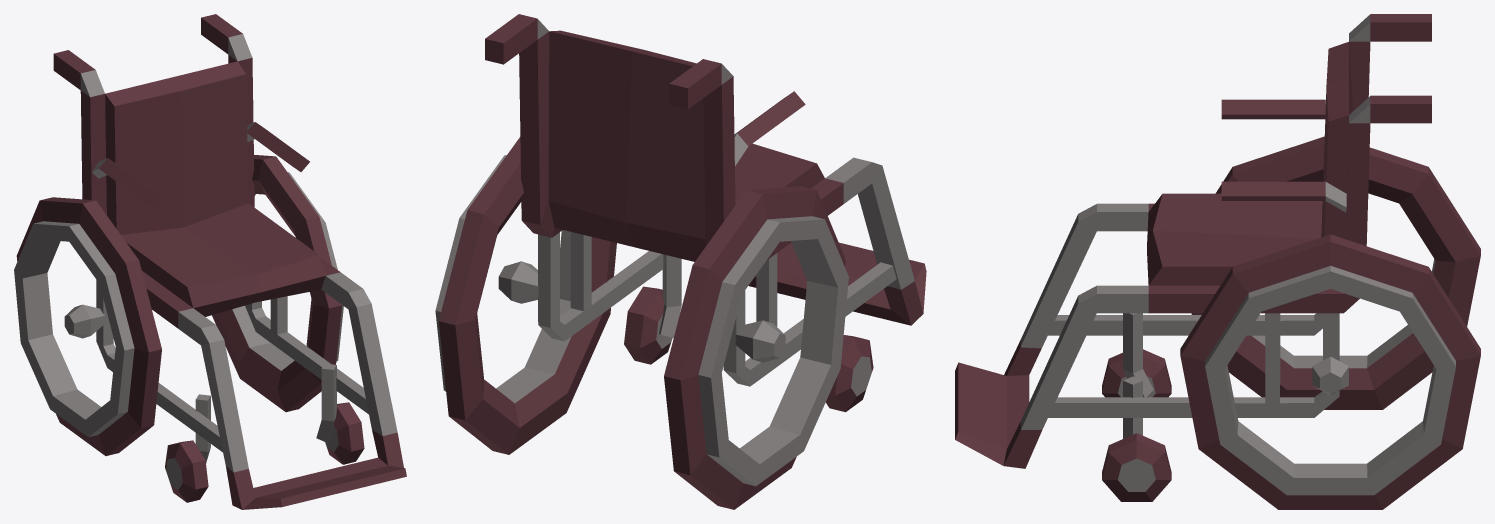
The model's file is wheelchair.fbx.
3 renders of one model, left to right at view 1: azimuth 30°, elevation 25°; view 2: azimuth 150°, elevation 25°; view 3: azimuth 270°, elevation 25°, orthographic. The views are drawn at different scales.
Visible parts, largest first — view 1: wheelchair; view 2: wheelchair; view 3: wheelchair.
Boxes of the visible parts, box(x1,y1,x2,y2) form: wheelchair: box(14, 14, 406, 509); wheelchair: box(435, 14, 926, 509); wheelchair: box(955, 14, 1480, 509).
Bounding box in the file's own units: 0.704 × 1.07 × 1.28.
